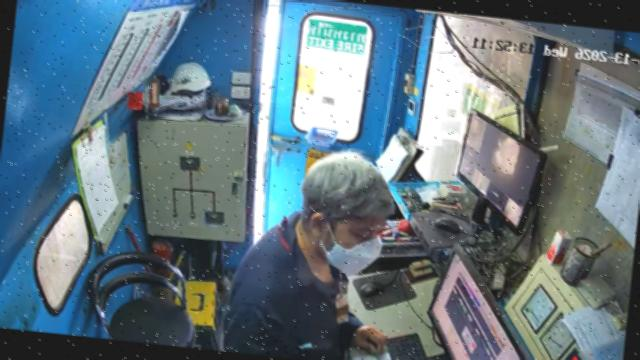Head: (299, 152, 395, 249)
People: (224, 151, 394, 359)
